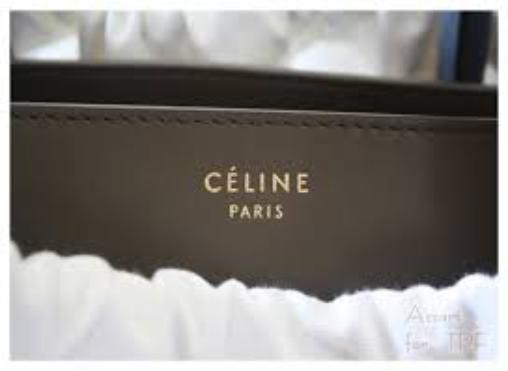CELINE: (205, 164, 310, 200)
